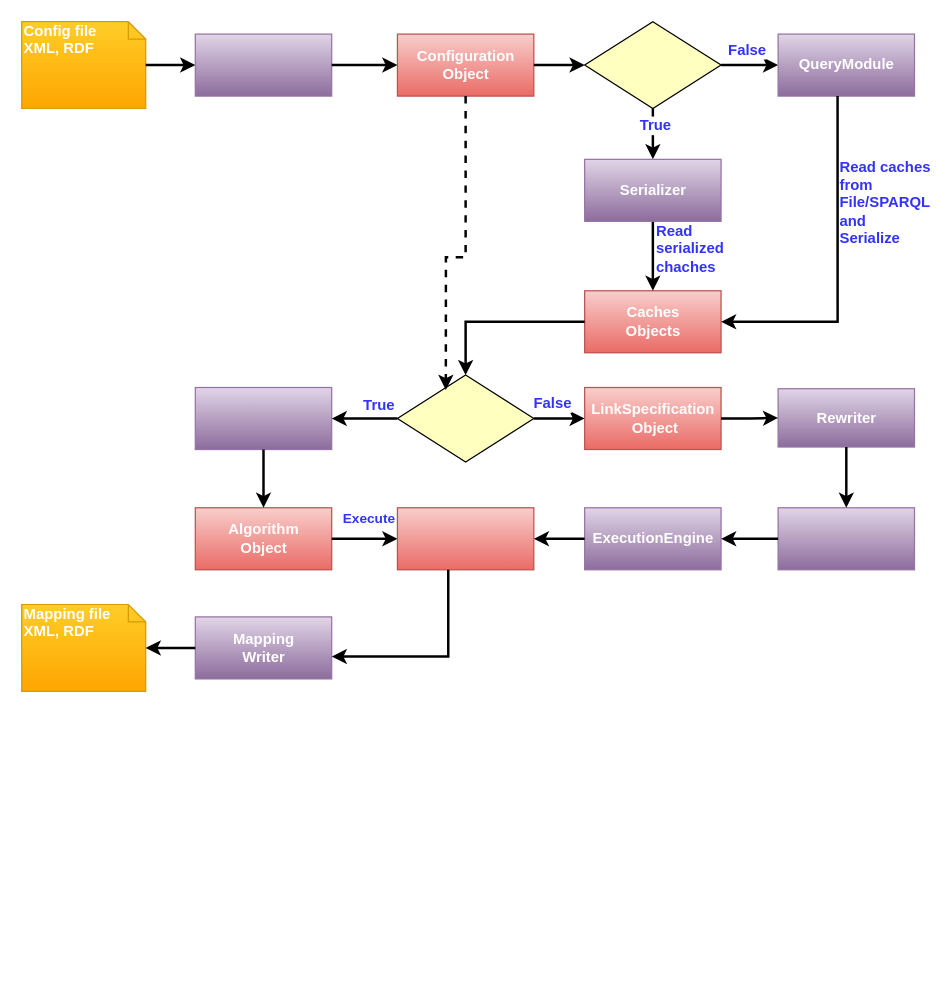
Some shapes in this 952 by 983 pixel diagram are drawn without their labels. The shapes that lost their labels are listed below. From the top down, each one's box as (x1, y1, x2, y2) in pixels, then its label:
(194, 33, 332, 96): Configuration Reader
(583, 20, 721, 108): Are Caches Serialized
(194, 386, 332, 450): MLFactory
(396, 374, 534, 462): IsMLAlgorithm
(396, 507, 534, 570): Mapping Object
(777, 507, 914, 570): Planner
